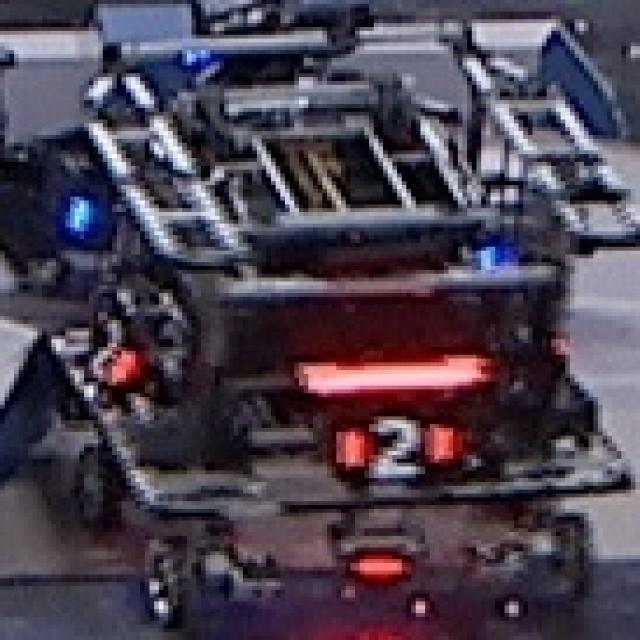R2: (316, 395, 456, 488), (59, 312, 142, 390)
